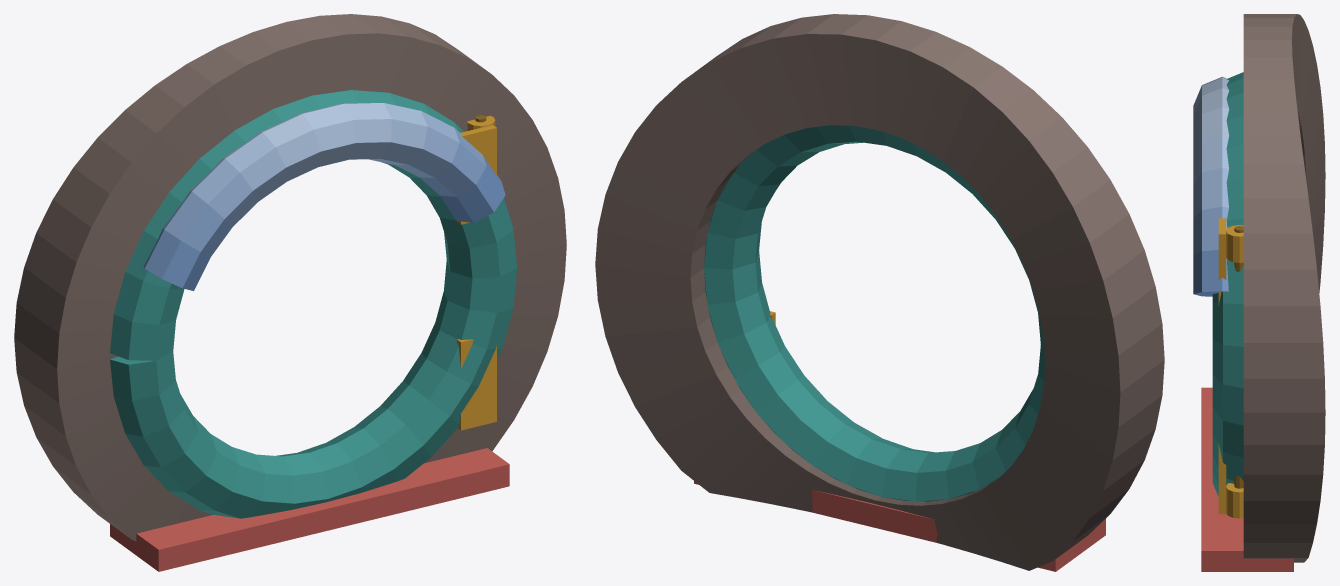
The model's file is goo_jar_door@fairground.fbx.
The picture shows the model from 3 angles, left to right: view 1: azimuth 30°, elevation 25°; view 2: azimuth 150°, elevation 25°; view 3: azimuth 270°, elevation 25°; orthographic projection. The views are drawn at different scales.
Visible parts, largest first — view 1: goo_jar_door; view 2: goo_jar_door; view 3: goo_jar_door.
Part boxes in pixels (box(x1,y1,x2,y2)): goo_jar_door: box(14, 14, 566, 571); goo_jar_door: box(595, 14, 1164, 571); goo_jar_door: box(1193, 14, 1325, 571).
Size of the model in its own units: 14.52 by 13.06 by 3.42.
